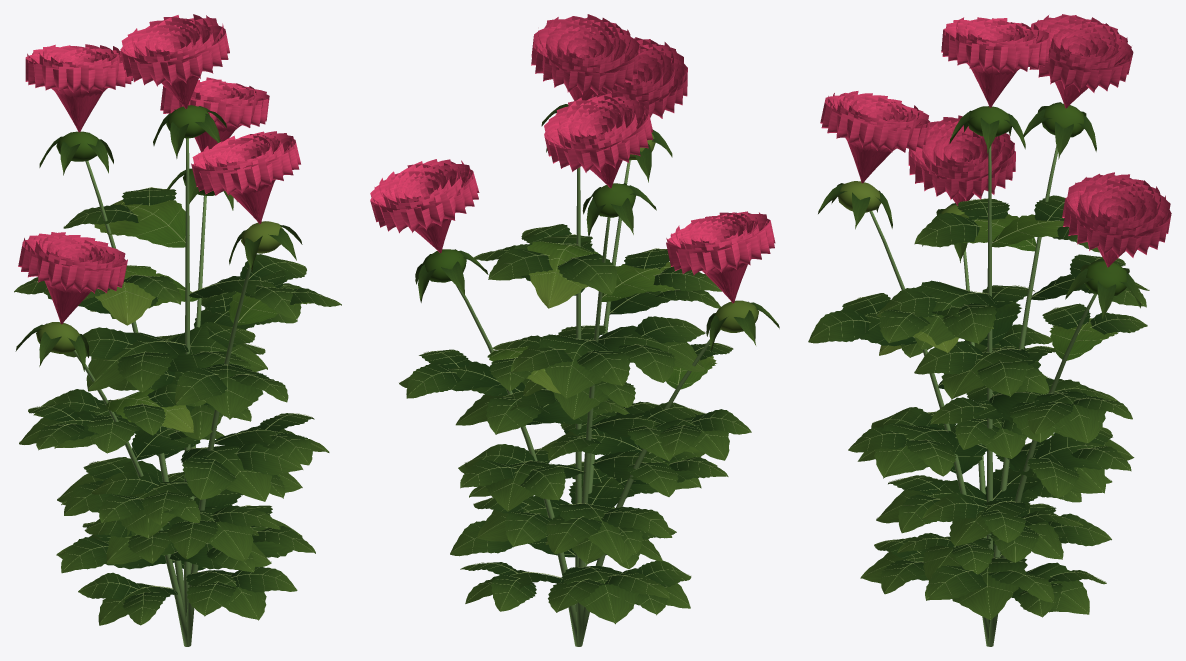
Rendered from dahlia-09.glb.
3 views of the same model, side by side, from view 1: azimuth 30°, elevation 25°; view 2: azimuth 150°, elevation 25°; view 3: azimuth 270°, elevation 25° (orthographic).
Parts seen in each view (by area): view 1: dahlia_stage_09_leaf_veins.016, dahlia_stage_09_dahlia_petal.016, dahlia_stage_09_young_leaf.016, dahlia_stage_09_raised_midveins.016, dahlia_stage_09_stem_fibres.016; view 2: dahlia_stage_09_leaf_veins.016, dahlia_stage_09_dahlia_petal.016, dahlia_stage_09_young_leaf.016, dahlia_stage_09_raised_midveins.016, dahlia_stage_09_stem_fibres.016; view 3: dahlia_stage_09_leaf_veins.016, dahlia_stage_09_dahlia_petal.016, dahlia_stage_09_young_leaf.016, dahlia_stage_09_raised_midveins.016, dahlia_stage_09_stem_fibres.016.
Boxes of the visible parts, x1=… form: dahlia_stage_09_leaf_veins.016: x1=14, y1=106, x2=341, y2=625; dahlia_stage_09_dahlia_petal.016: x1=18, y1=14, x2=300, y2=324; dahlia_stage_09_young_leaf.016: x1=36, y1=105, x2=310, y2=432; dahlia_stage_09_raised_midveins.016: x1=16, y1=187, x2=340, y2=623; dahlia_stage_09_stem_fibres.016: x1=73, y1=138, x2=251, y2=646; dahlia_stage_09_leaf_veins.016: x1=399, y1=104, x2=779, y2=623; dahlia_stage_09_dahlia_petal.016: x1=370, y1=14, x2=775, y2=303; dahlia_stage_09_young_leaf.016: x1=423, y1=105, x2=758, y2=393; dahlia_stage_09_raised_midveins.016: x1=399, y1=224, x2=750, y2=622; dahlia_stage_09_stem_fibres.016: x1=456, y1=160, x2=720, y2=646; dahlia_stage_09_leaf_veins.016: x1=808, y1=102, x2=1149, y2=620; dahlia_stage_09_dahlia_petal.016: x1=820, y1=14, x2=1171, y2=267; dahlia_stage_09_young_leaf.016: x1=838, y1=103, x2=1126, y2=360; dahlia_stage_09_raised_midveins.016: x1=809, y1=196, x2=1148, y2=619; dahlia_stage_09_stem_fibres.016: x1=869, y1=145, x2=1096, y2=646.
Bounding box in the file's own units: 0.3928 × 0.7363 × 0.393.
Materials: 5 (3 with a texture image).
